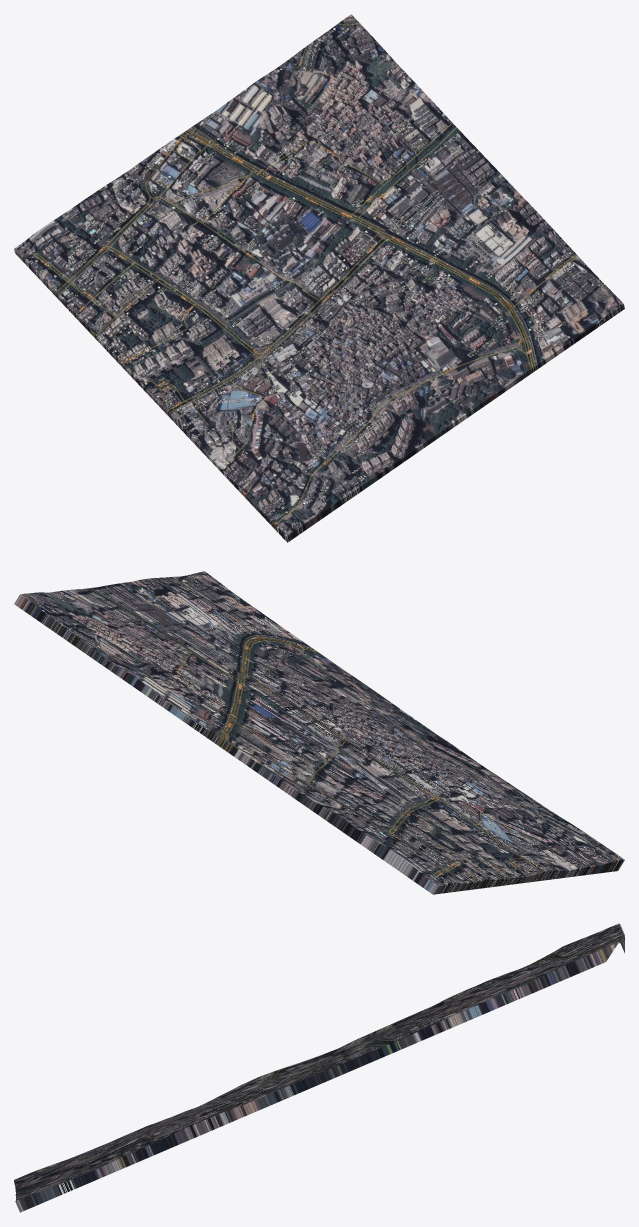
3 renders of one model, top to bottom at view 1: azimuth 30°, elevation 25°; view 2: azimuth 150°, elevation 25°; view 3: azimuth 270°, elevation 25°, orthographic. The views are drawn at different scales.
Parts seen in each view (by area): view 1: 1_0_4; view 2: 1_0_4; view 3: 1_0_4.
Part boxes in pixels (box(x1,y1,x2,y2)): 1_0_4: box(14, 14, 624, 542); 1_0_4: box(14, 571, 624, 894); 1_0_4: box(14, 923, 624, 1212).
Bounding box in the file's own units: 1231 × 905 × 1130.
1 material, 1 textured.
